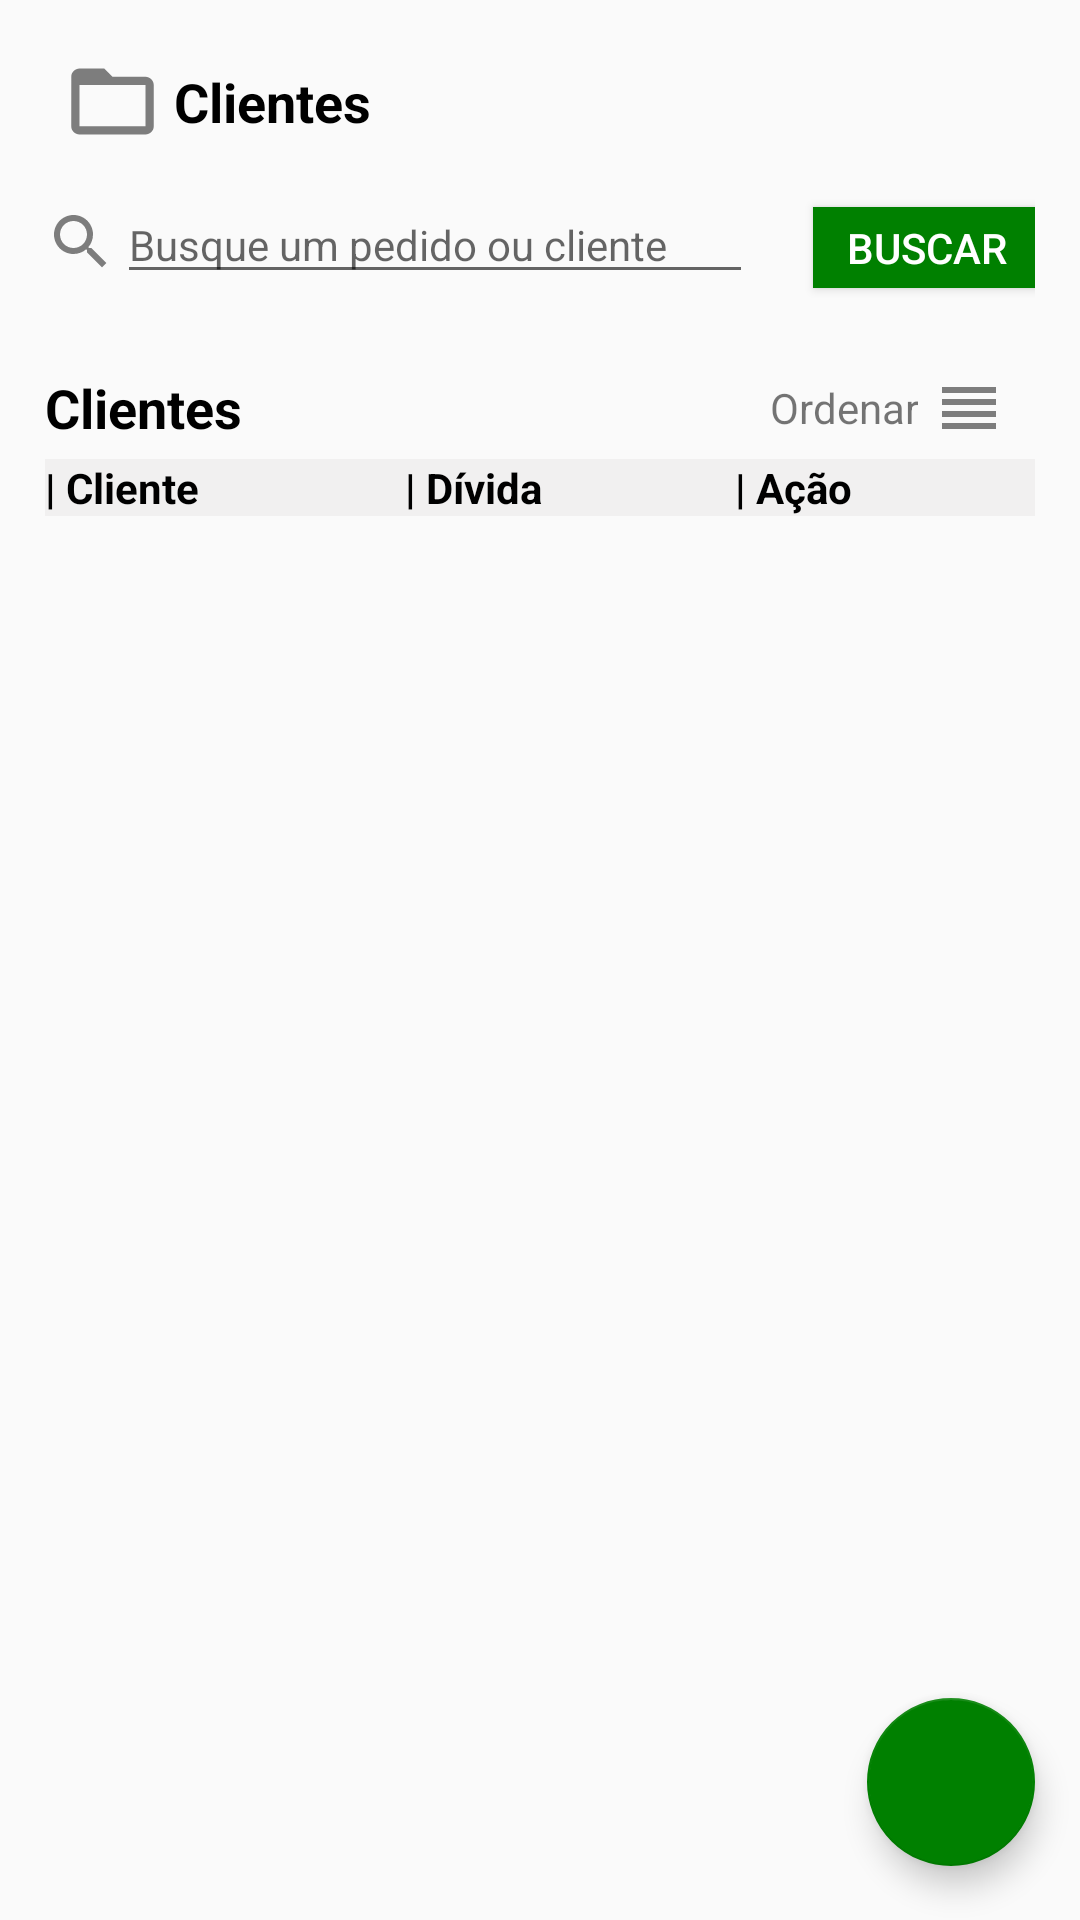

Icons on this 1080px x 1920px Android screen, each with the point to tap as point (x, y):
folder open: point (112, 101)
reorder: point (969, 408)
search: point (80, 241)
